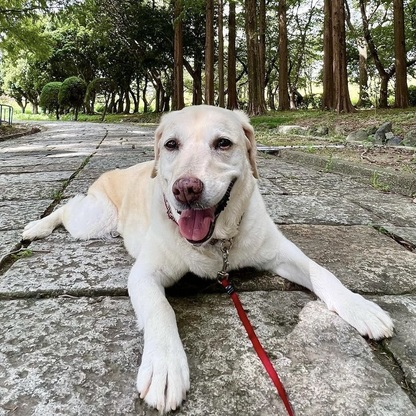labrado: (17, 100, 400, 414)
